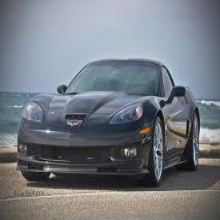no damage: (19, 59, 201, 185)
